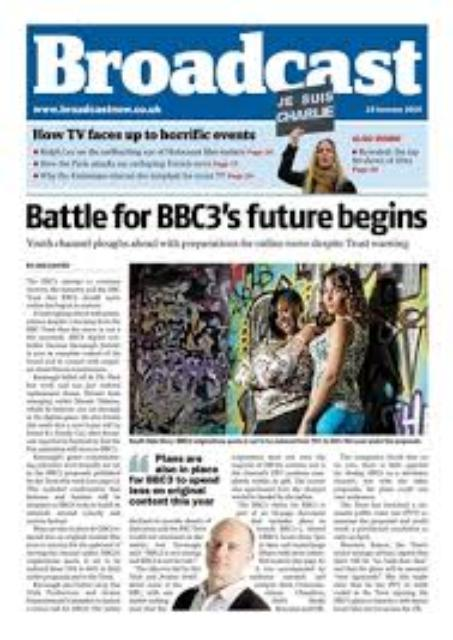cardboard paper: (292, 261, 367, 431), (165, 511, 271, 611)
